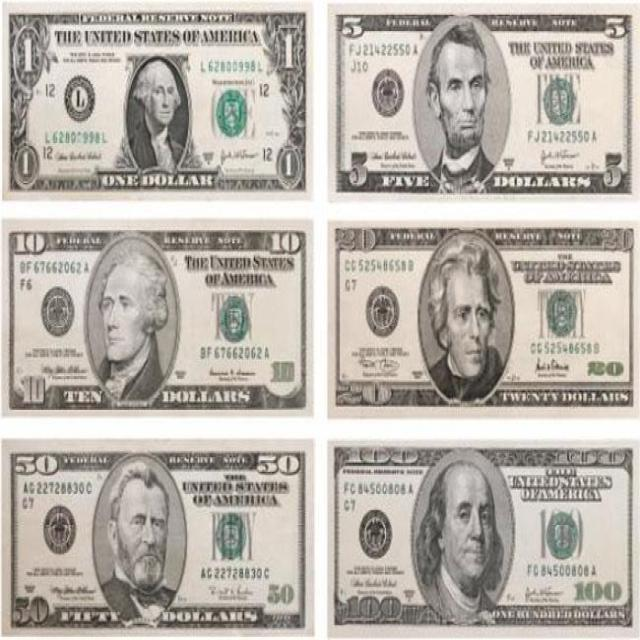1-Front: (4, 0, 308, 205)
10-Front: (3, 221, 312, 416)
100-Front: (327, 435, 640, 640)
20-Front: (327, 220, 633, 416)
5-Front: (329, 4, 636, 205)
50-Front: (2, 437, 314, 636)
